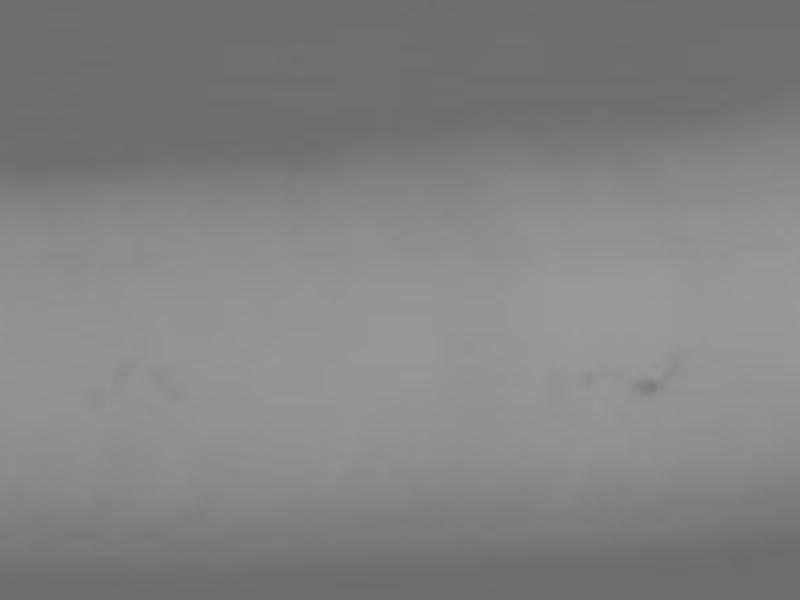defect: (660, 351, 687, 378), (634, 377, 657, 400), (604, 364, 624, 384), (579, 366, 596, 383)
